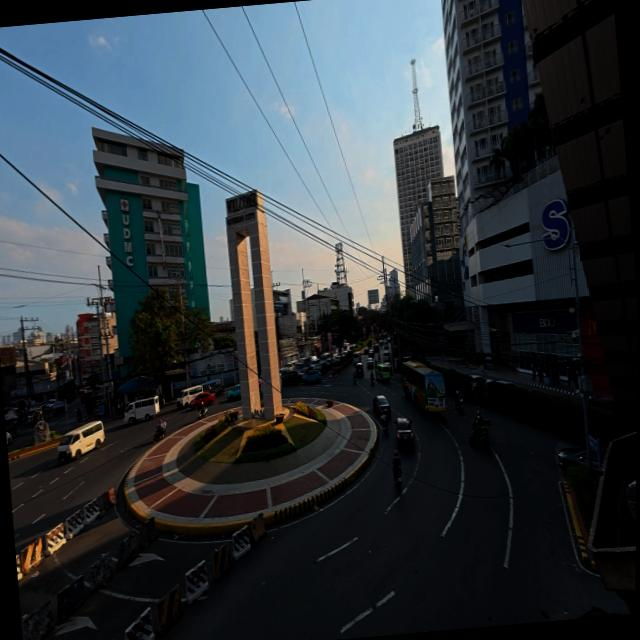bus: (402, 361, 446, 411)
car: (558, 447, 588, 470), (396, 417, 414, 448), (190, 391, 215, 409), (373, 395, 391, 418), (589, 397, 614, 410), (281, 370, 301, 386), (303, 369, 322, 384), (28, 409, 42, 425), (470, 375, 484, 391), (228, 385, 241, 400), (317, 361, 331, 374), (299, 366, 314, 378), (495, 379, 517, 387), (355, 363, 363, 376), (280, 367, 289, 378), (366, 357, 374, 369), (46, 399, 58, 407), (6, 432, 12, 444), (368, 349, 374, 358), (84, 387, 92, 393), (383, 341, 388, 350), (373, 344, 378, 353), (258, 379, 262, 388)
motorcycle: (469, 419, 491, 449), (393, 465, 402, 488), (153, 426, 165, 442), (454, 397, 464, 413), (382, 416, 388, 436), (197, 408, 207, 420), (215, 387, 224, 395), (369, 374, 375, 386), (77, 412, 82, 422), (354, 376, 356, 384)
vans: (59, 422, 105, 460), (124, 396, 160, 424), (174, 384, 205, 409), (376, 364, 390, 382), (352, 350, 361, 364), (383, 351, 390, 363)
